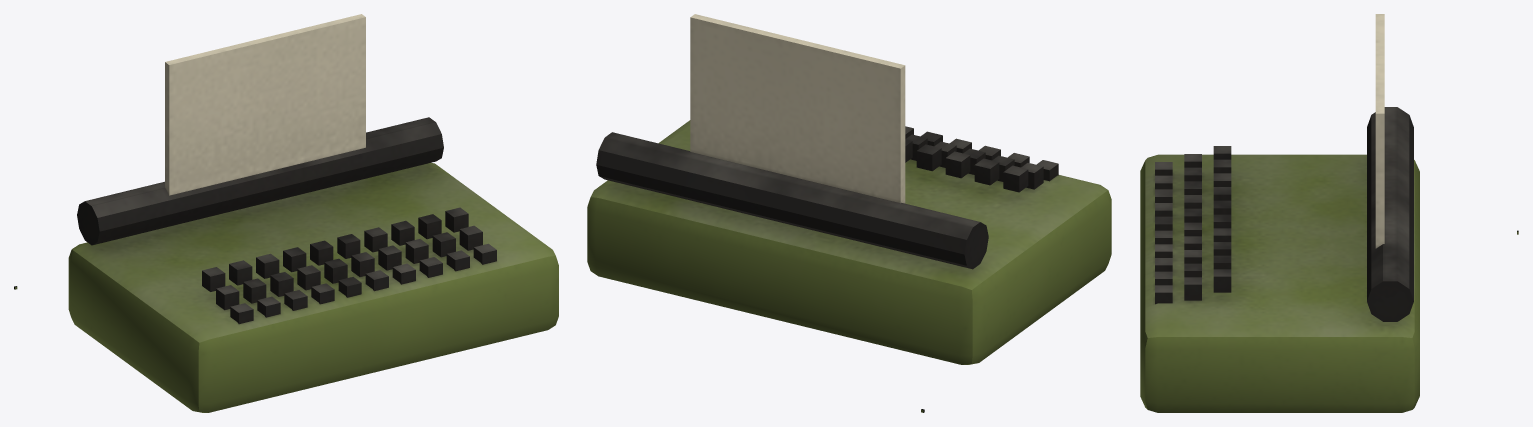
The model's file is H_Laptop.fbx.
The picture shows the model from 3 angles, left to right: view 1: azimuth 30°, elevation 25°; view 2: azimuth 150°, elevation 25°; view 3: azimuth 270°, elevation 25°; orthographic projection. The views are drawn at different scales.
Visible parts, largest first — view 1: H_Laptop; view 2: H_Laptop; view 3: H_Laptop.
Part boxes in pixels (x1,y1,x2,y2): H_Laptop: (14, 14, 558, 412); H_Laptop: (587, 14, 1111, 412); H_Laptop: (1140, 14, 1518, 412).
Size of the model in its own units: 150 by 98.5 by 129.
1 material, 1 textured.
